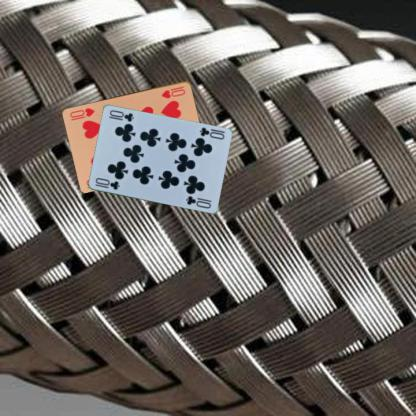10c: (196, 125, 226, 141), (93, 175, 120, 191)
10h: (159, 84, 187, 100)
